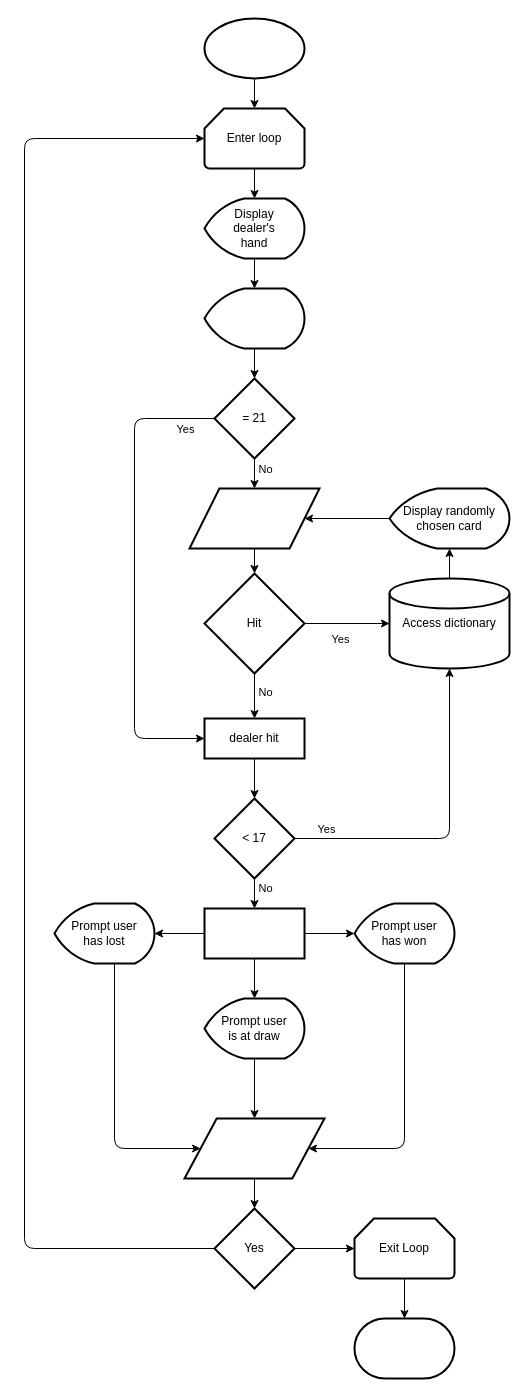
Some shapes in this 528 by 1396 pixel diagram are drawn without their labels. The box of each missing label's shape, as (x1, y1, x2, y2) in pixels:
Compare User's hand w/ Dealers: (203, 907, 305, 959)
Display user's hand: (203, 287, 305, 349)
End: (353, 1317, 455, 1379)
Prompt user to either continue: (183, 1117, 325, 1179)
Prompt user to either hit or stay: (188, 487, 320, 549)
Start: (203, 17, 305, 79)
